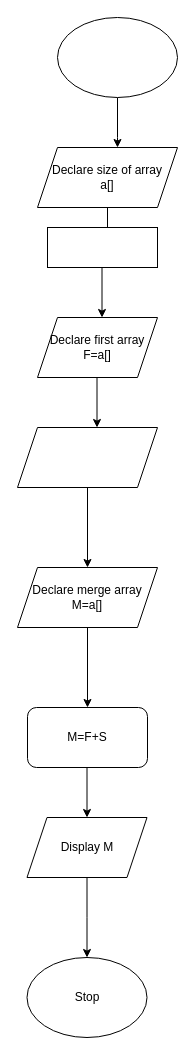
The diagram is 195 pixels wide and 1055 high, and some of its shapes have lost their labels. Here are the shapes that lost their labels. From the top down, the centre of each, then its label:
point 117,57: Start
point 102,247: initialize the array a[]=0
point 87,457: Declare second array S=a[]
